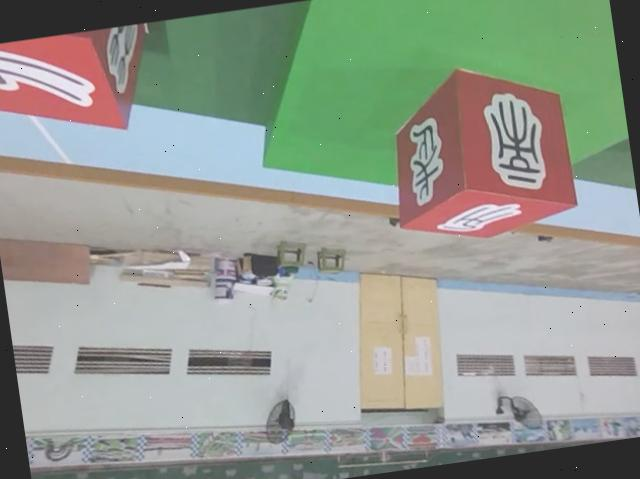R2 Fake: (377, 51, 582, 252), (0, 22, 161, 153)
